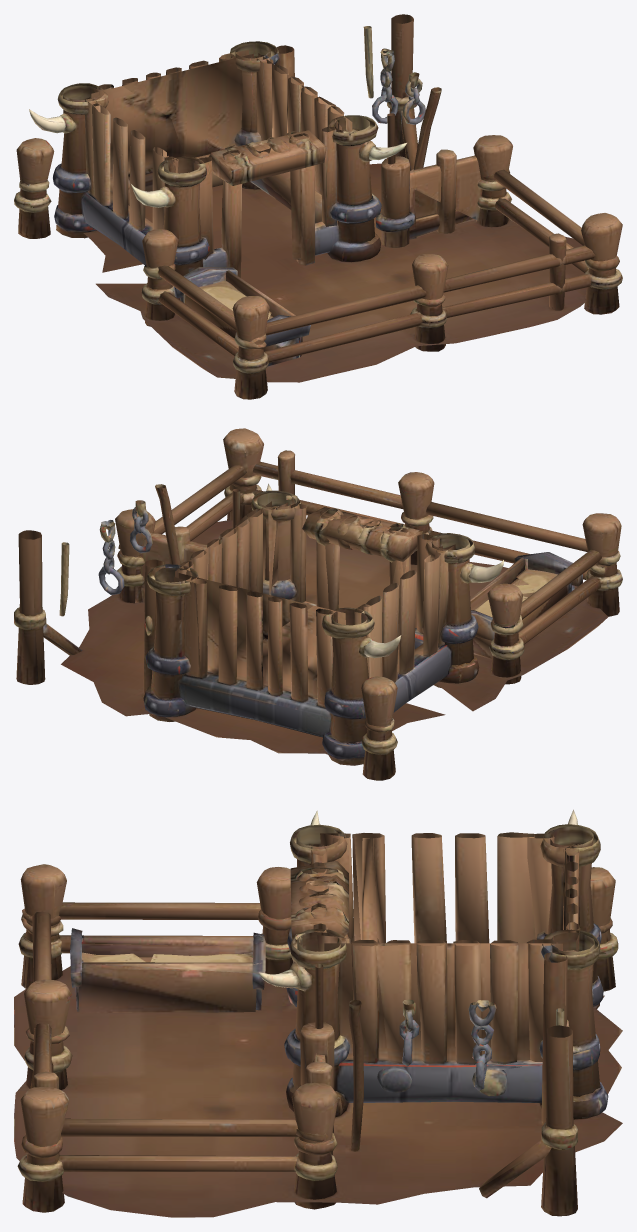
The model's file is matadero_e2.glb.
The picture shows the model from 3 angles, top to bottom: view 1: azimuth 30°, elevation 25°; view 2: azimuth 150°, elevation 25°; view 3: azimuth 270°, elevation 25°; orthographic projection. The views are drawn at different scales.
Bounding box in the file's own units: 7.96 × 2.58 × 8.
1 material, 1 textured.
